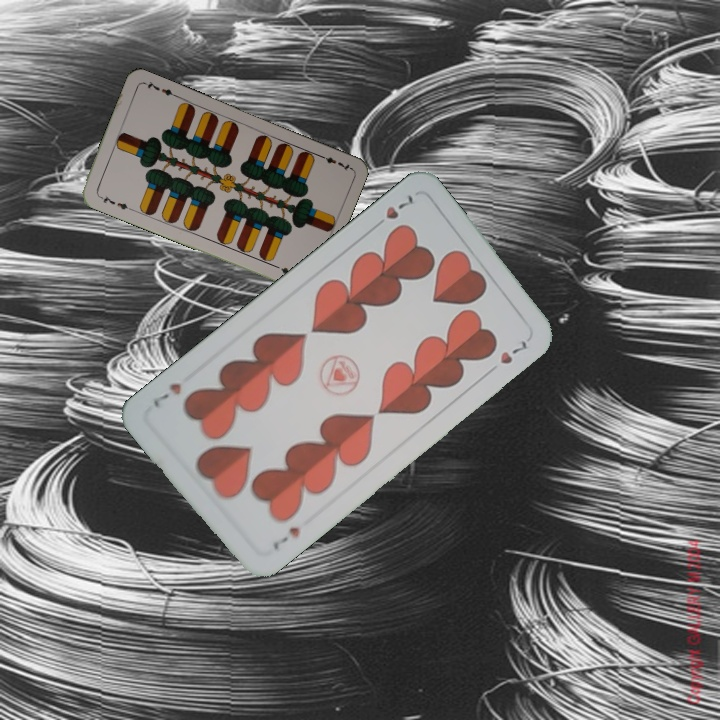E7: (314, 150, 353, 174), (94, 191, 133, 213)
H7: (368, 190, 416, 232), (268, 522, 303, 553)
